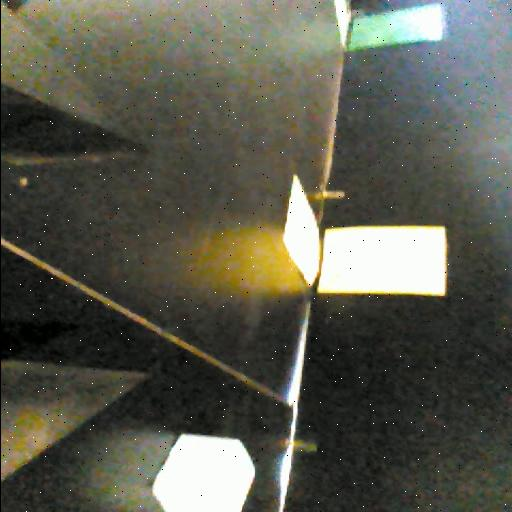cube: (148, 431, 262, 512)
